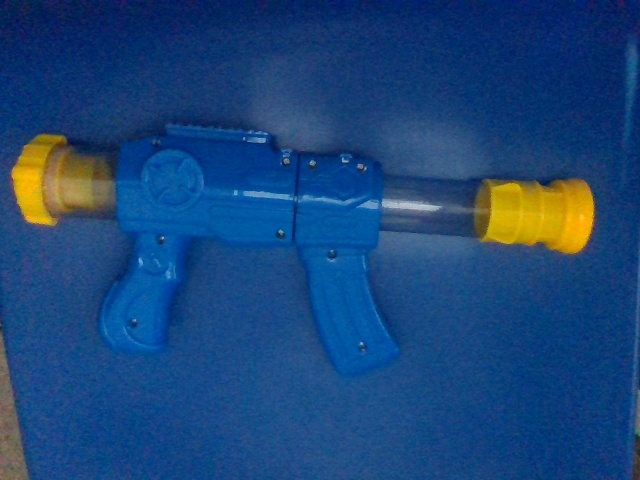screw hole: (326, 249, 339, 262), (357, 162, 368, 173), (280, 157, 292, 167), (127, 317, 137, 328), (276, 228, 286, 239), (357, 341, 367, 352), (156, 235, 166, 245), (308, 159, 318, 169), (151, 138, 161, 147)
toy: (12, 121, 594, 376)
